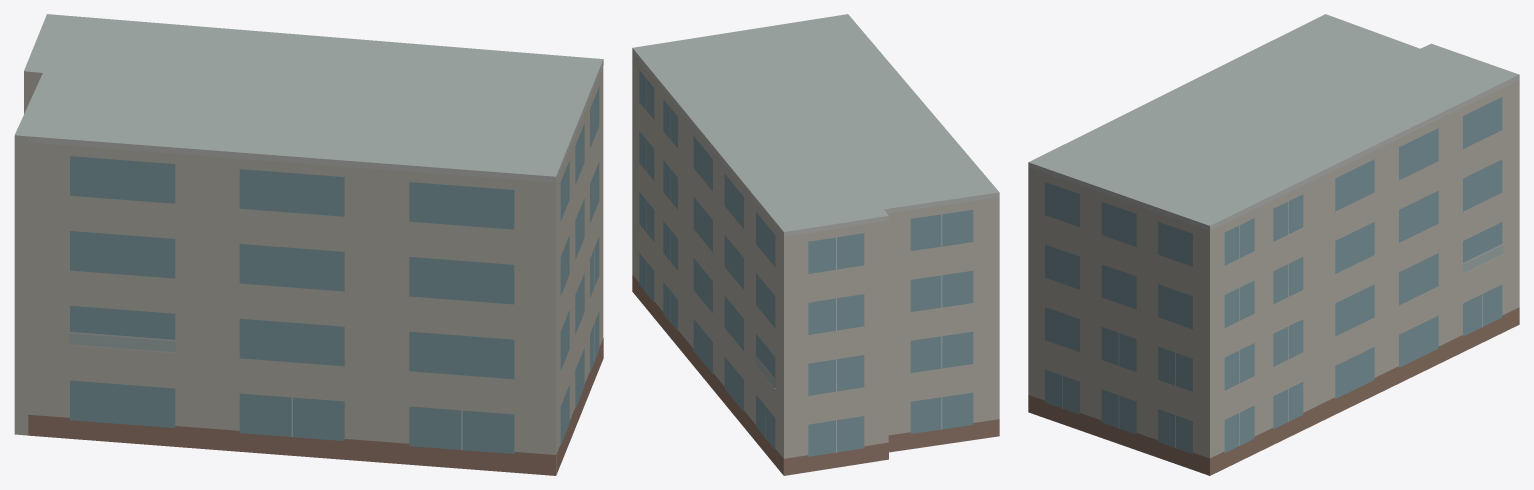
Rendered from survey-upis-32576415.glb.
The picture shows the model from 3 angles, left to right: view 1: azimuth 30°, elevation 25°; view 2: azimuth 150°, elevation 25°; view 3: azimuth 270°, elevation 25°; orthographic projection. The views are drawn at different scales.
Parts seen in each view (by area): view 1: survey-upis-32576415.tmp; view 2: survey-upis-32576415.tmp; view 3: survey-upis-32576415.tmp.
Boxes of the visible parts, box(x1,y1,x2,y2) form: survey-upis-32576415.tmp: box(14, 14, 603, 475); survey-upis-32576415.tmp: box(632, 14, 999, 475); survey-upis-32576415.tmp: box(1028, 14, 1519, 475).
Size of the model in its own units: 22.19 by 12.2 by 21.73.
